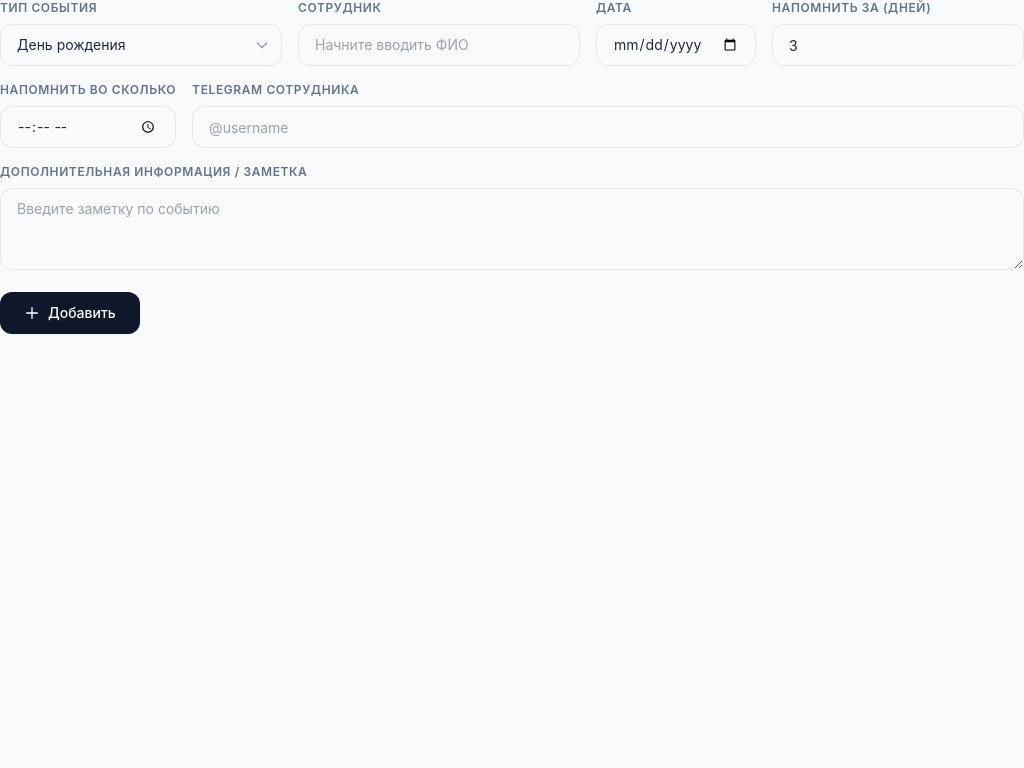
Test case: EventNotificationSetup interview HH invite › asks to send hh.ru interview letter after creating interview event
Select "Собеседование" in the dropdown. click: (141, 45)
box: top-left (0, 24), bottom-right (282, 66)
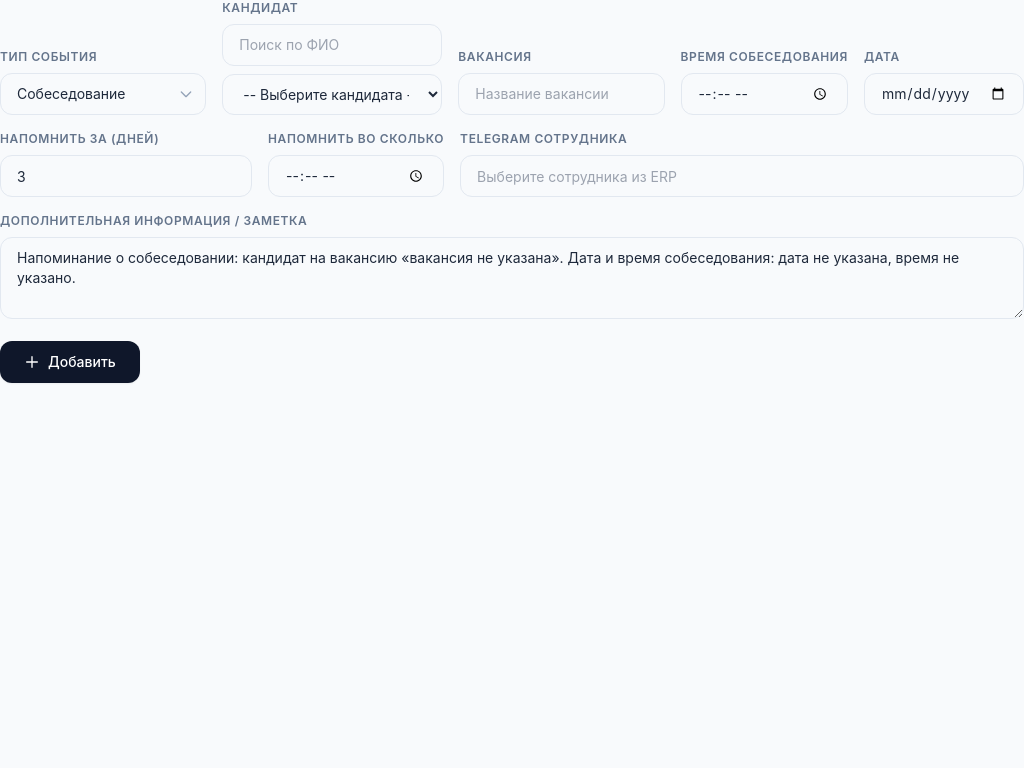
Select "Иванов Артём Валерьевич" in the dropdown with test id "event-candidate-select". click: (332, 94)
box: top-left (222, 74), bottom-right (442, 115)
Type "2026-07-09" into the date field. click: (944, 94)
box: top-left (864, 73), bottom-right (1023, 115)
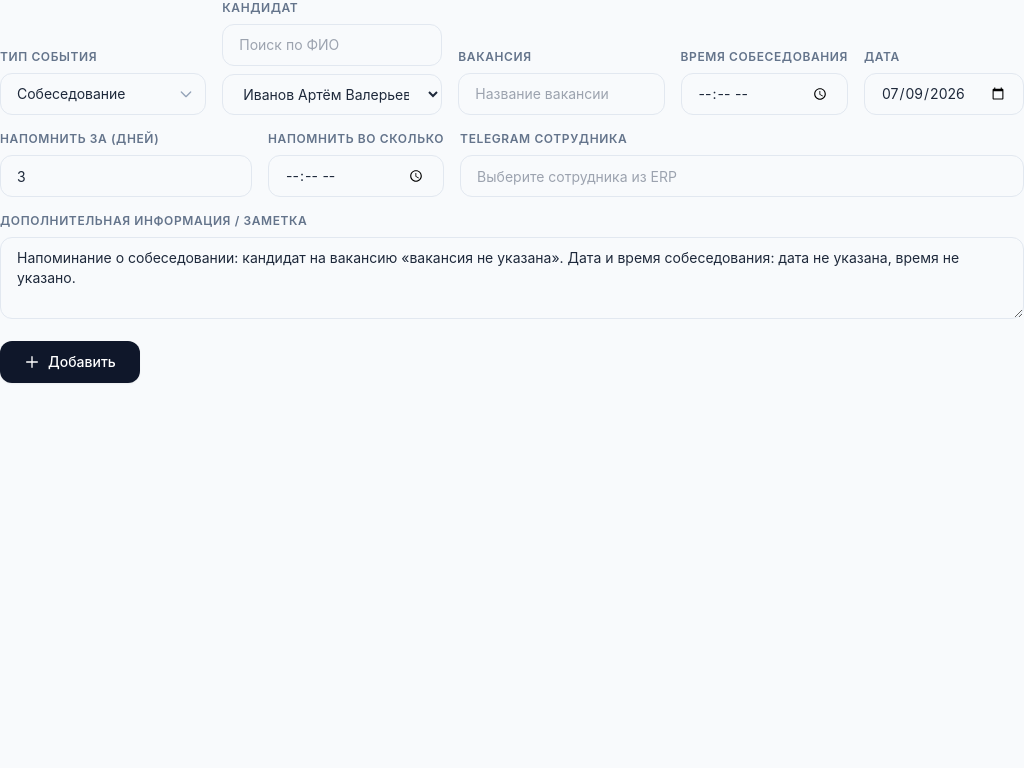
Type "16:00" into the time field below "Время собеседования". click: (764, 94)
box: top-left (681, 73), bottom-right (848, 115)
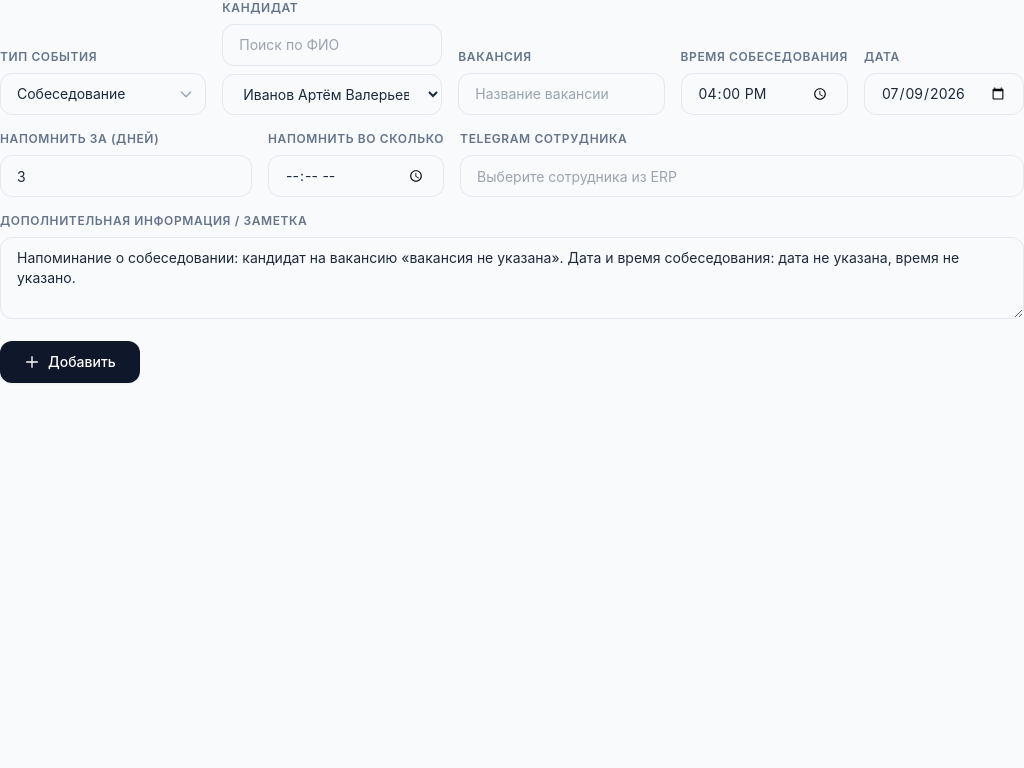
Type "HR Петров" into the field with placeholder "Выберите сотрудника из ERP". click: (742, 176)
box: top-left (460, 155), bottom-right (1023, 197)
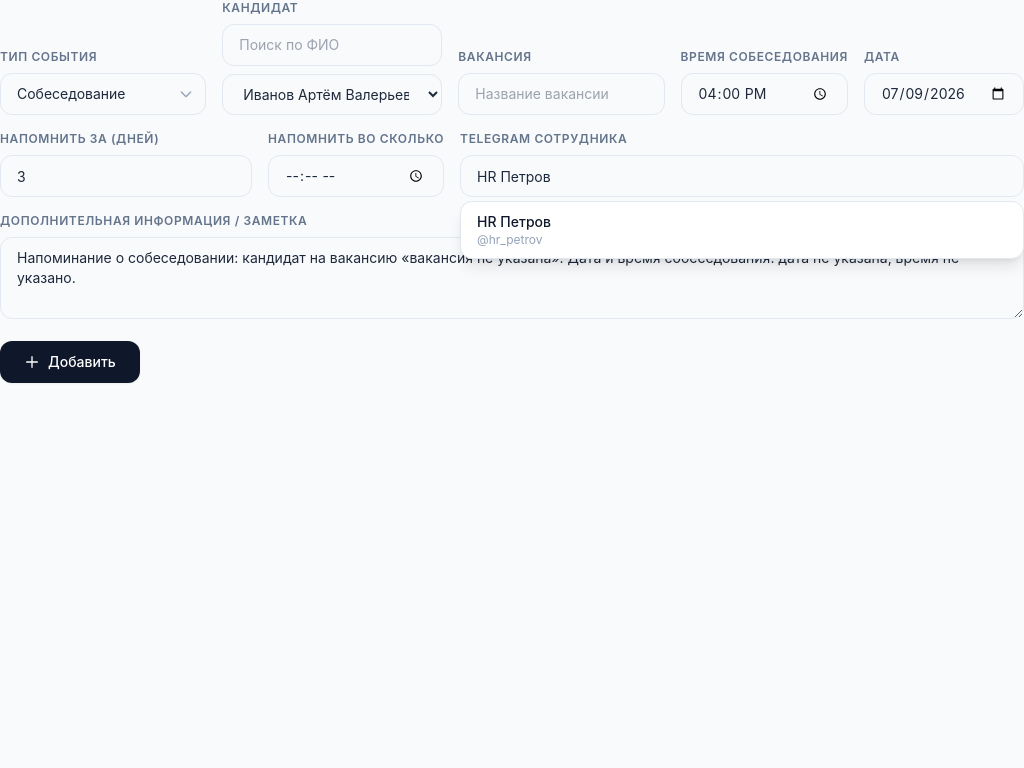
Click the text "HR Петров". click: (514, 222)
box: top-left (477, 213), bottom-right (551, 230)
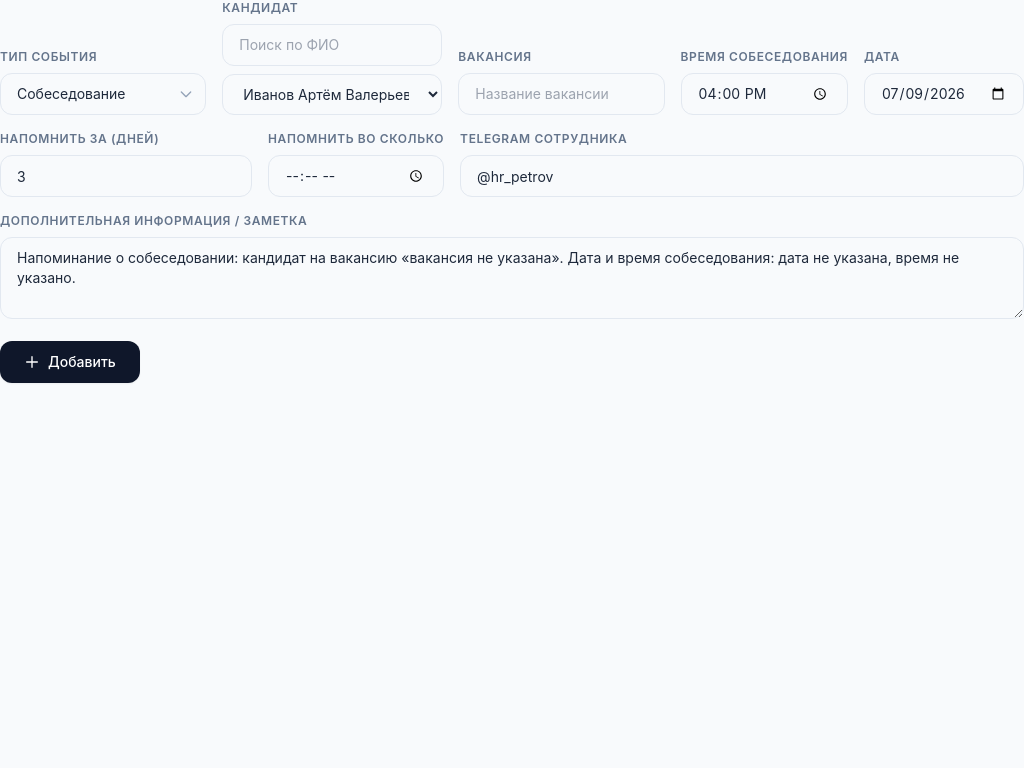
Click the button "Добавить". click: (70, 362)
box: top-left (0, 341), bottom-right (140, 383)
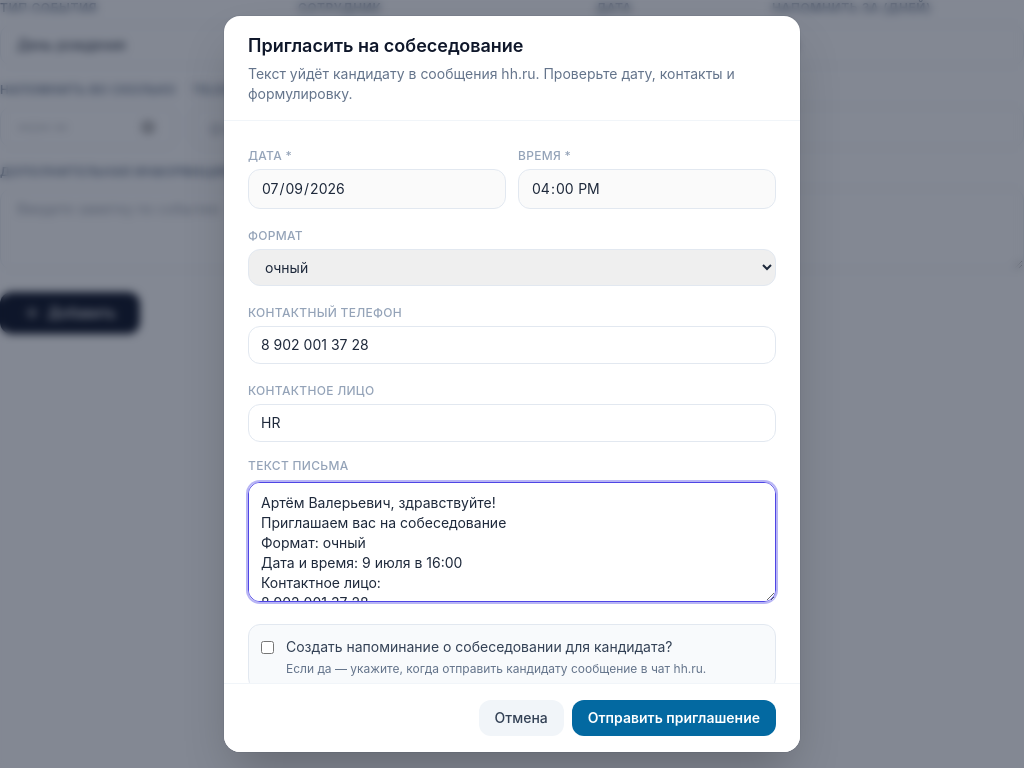
Expected: the heading "Пригласить на собеседование" is shown, top-left (248, 35), bottom-right (524, 56)
